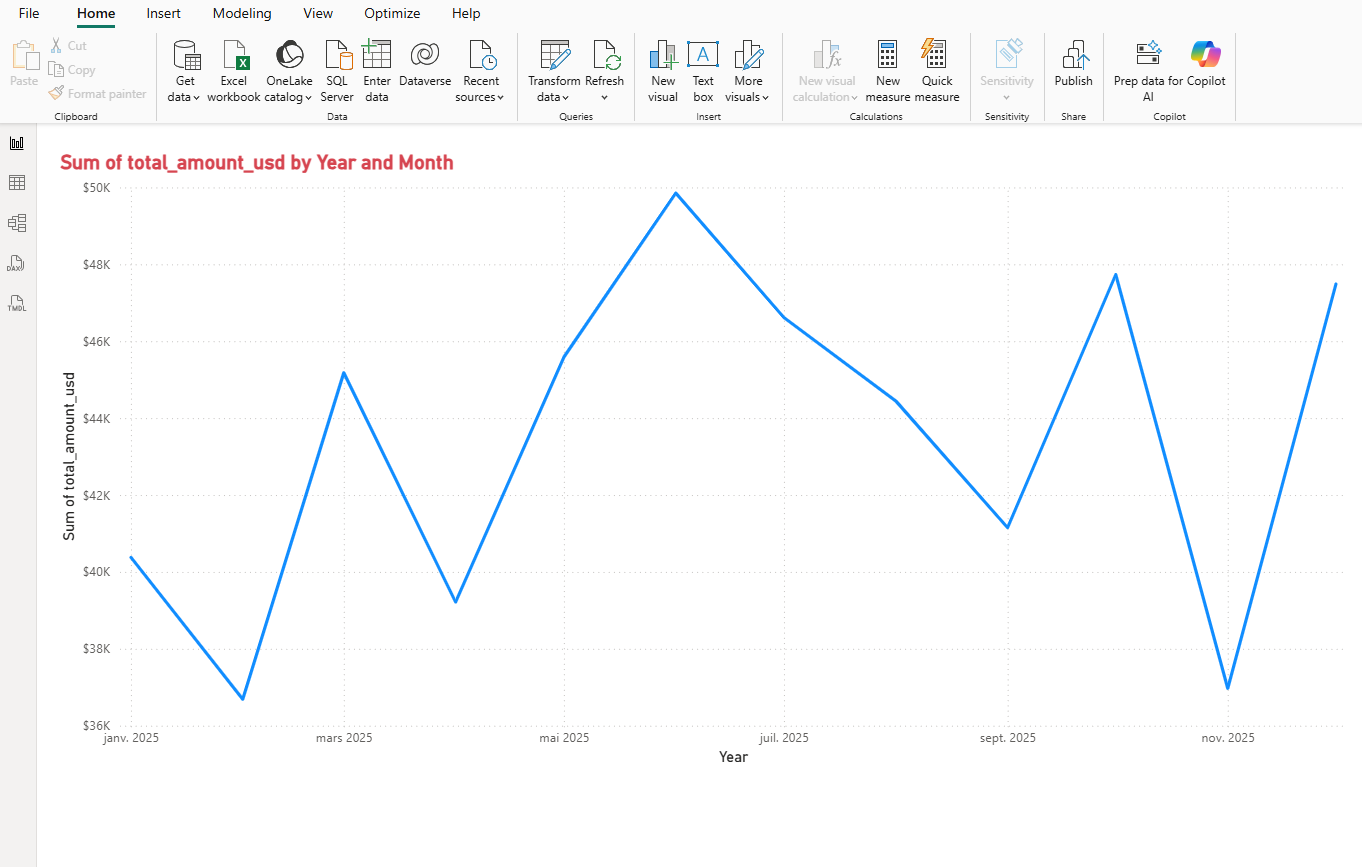

What the dashboard file says about the page in this screenshot:
{"tool":"powerbi","page":{"name":"Page 2","canvas":[1280,720],"ordinal":1},"visuals":[{"type":"lineChart","fields":{"Category":["orders.order_date.Variation.Date Hierarchy.Year","orders.order_date.Variation.Date Hierarchy.Month"],"Y":["Sum(orders.total_amount_usd)"]},"box":[17.1,25.7,1262.9,596.6],"z":0}]}

Visuals, with their boxes on the page's 1280x720 design canvas (x1, y1, x2, y2). These are canvas units, not pixel positions in the 1362x867 screenshot, which may show the page scaled, cropped or inside an application window:
lineChart - orders.order_date.Variation.Date Hierarchy.Year x orders.order_date.Variation.Date Hierarchy.Month: left=17, top=26, right=1280, bottom=622
